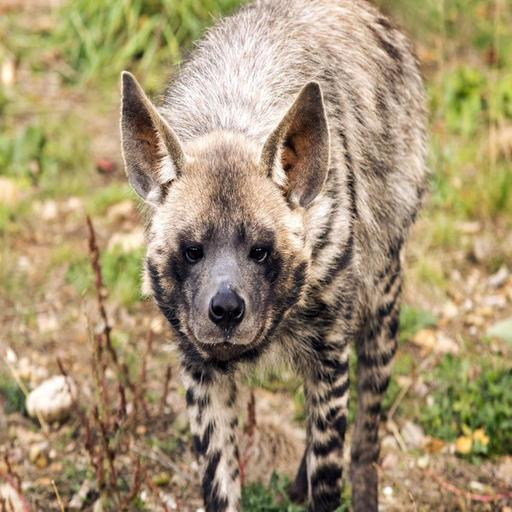Hyena: (115, 0, 432, 512)
